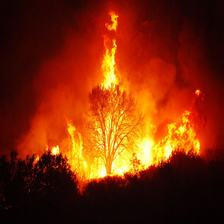fire: (41, 27, 205, 181)
